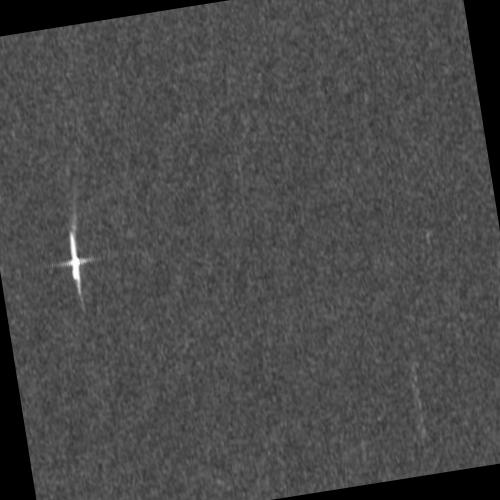ship: (69, 232, 81, 282)
